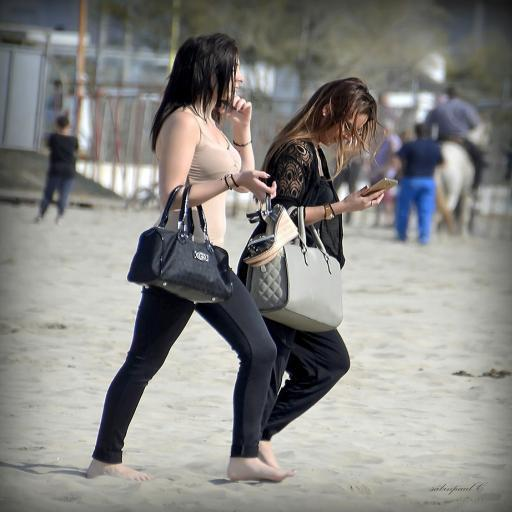horse: (438, 125, 492, 240)
